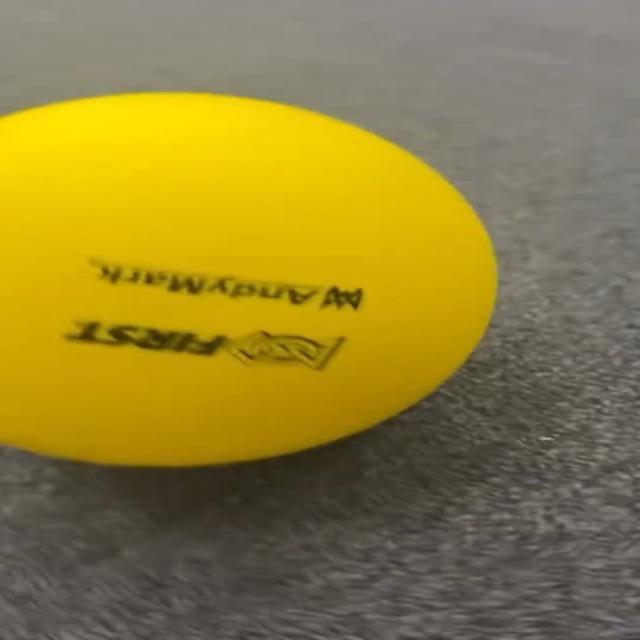Fuels: (3, 94, 496, 463)
